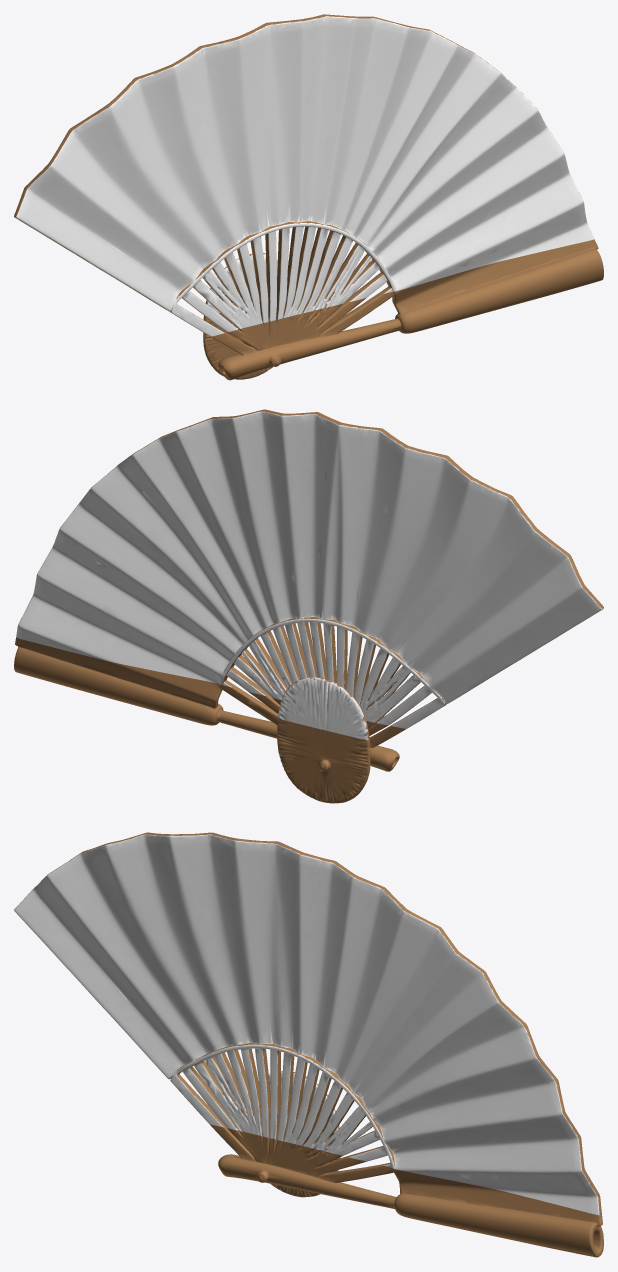
Rendered from fan_a.下架-20261008.dist.glb.
3 views of the same model, one above another, from view 1: azimuth 30°, elevation 25°; view 2: azimuth 150°, elevation 25°; view 3: azimuth 330°, elevation 25° (orthographic).
Parts seen in each view (by area): view 1: fan_face_front, fan_ribs; view 2: fan_face_back, fan_ribs; view 3: fan_face_front, fan_ribs.
Boxes of the visible parts, x1,y1,x2,y2 form: fan_face_front: (16,16,594,336); fan_ribs: (14,14,603,380); fan_face_back: (16,411,601,740); fan_ribs: (14,409,603,803); fan_face_front: (14,834,599,1215); fan_ribs: (15,832,603,1257).
Size of the model in its own units: 1.08 by 0.6464 by 0.1133.
